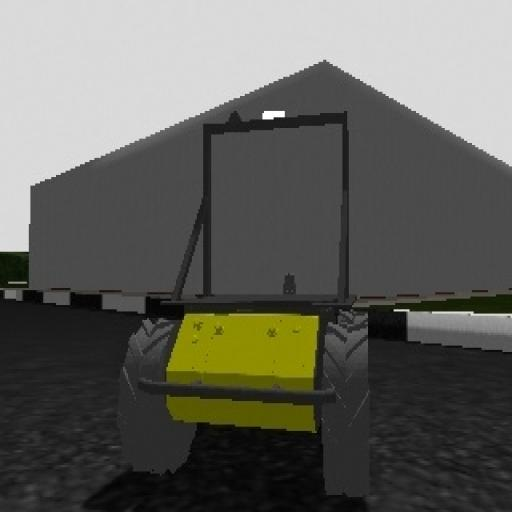huskya200: (114, 105, 382, 502)
